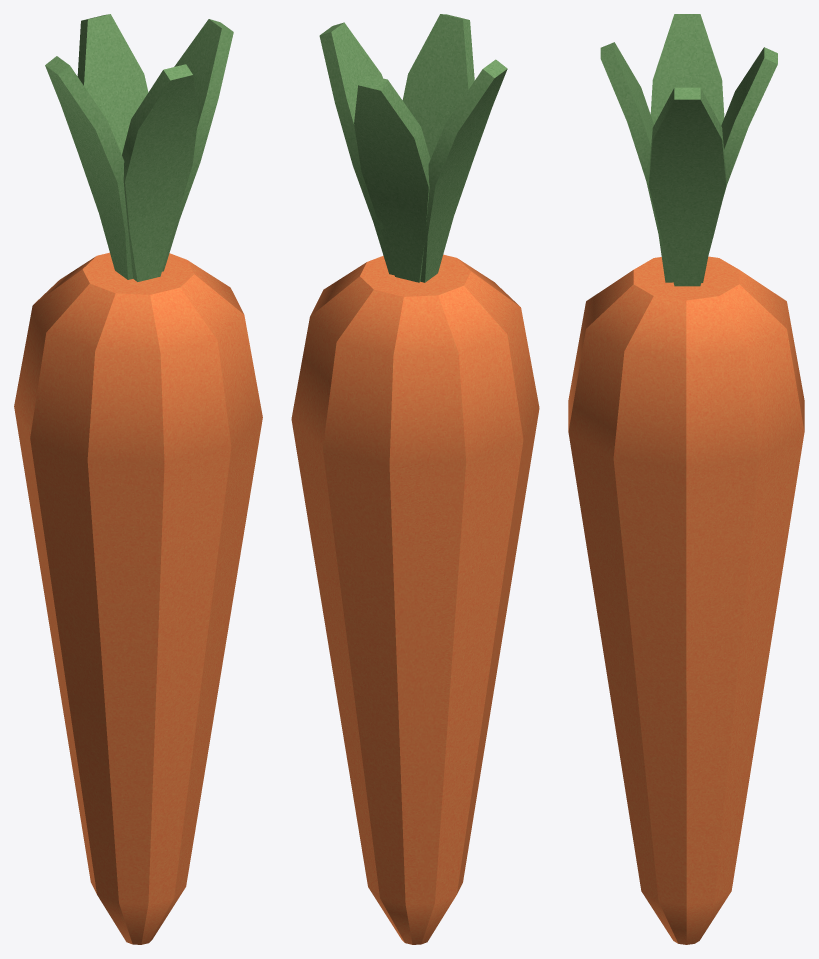
Rendered from carrot.fbx.
3 views of the same model, side by side, from view 1: azimuth 30°, elevation 25°; view 2: azimuth 150°, elevation 25°; view 3: azimuth 270°, elevation 25° (orthographic).
Visible parts, largest first — view 1: carrot_geo; view 2: carrot_geo; view 3: carrot_geo.
Part boxes in pixels (x1,y1,x2,y2): carrot_geo: (14, 14, 262, 944); carrot_geo: (291, 14, 539, 944); carrot_geo: (568, 14, 804, 944).
Size of the model in its own units: 0.9976 by 3.95 by 0.9487.
